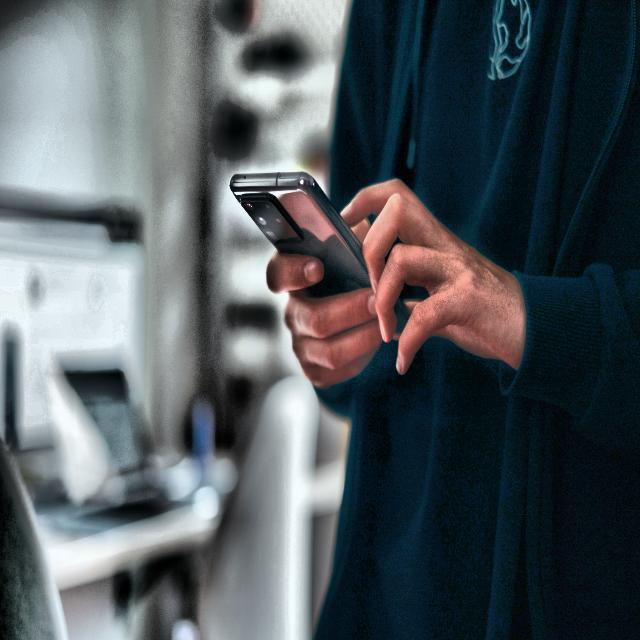Phone: (228, 168, 413, 341)
